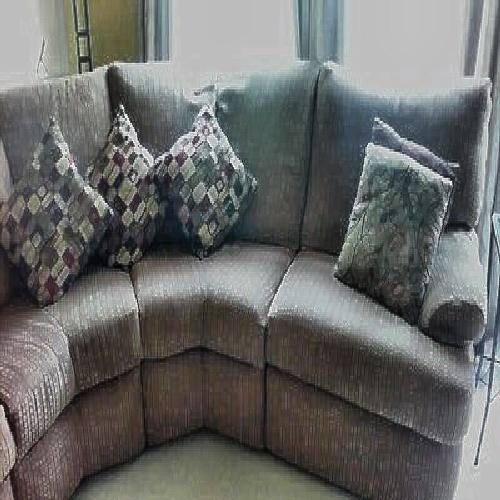sofa: (27, 69, 481, 466)
